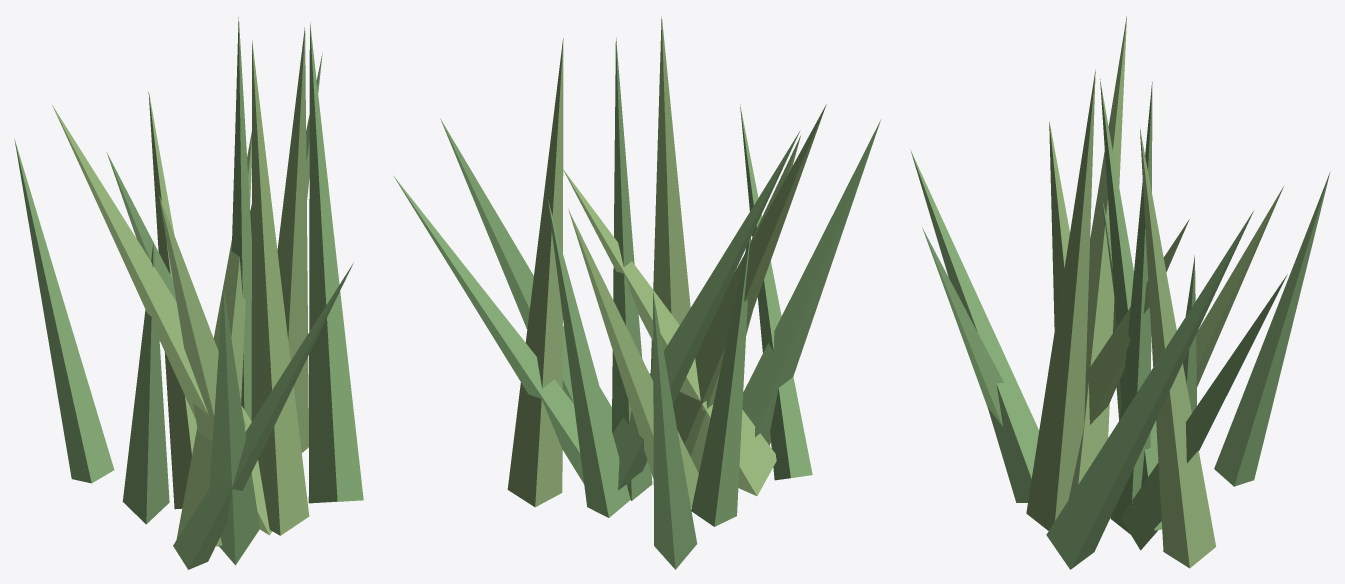
The model's file is grass_s2_02.glb.
3 renders of one model, left to right at view 1: azimuth 30°, elevation 25°; view 2: azimuth 150°, elevation 25°; view 3: azimuth 270°, elevation 25°, orthographic. The views are drawn at different scales.
Parts seen in each view (by area): view 1: part00, part01; view 2: part00, part01; view 3: part00, part01.
Part boxes in pixels (bbox=[...]): part00: bbox=[14, 16, 363, 569]; part01: bbox=[52, 27, 309, 546]; part00: bbox=[393, 37, 880, 569]; part01: bbox=[507, 16, 826, 507]; part00: bbox=[910, 79, 1330, 569]; part01: bbox=[1026, 16, 1284, 568].
Size of the model in its own units: 0.7329 by 0.9516 by 0.7857.
